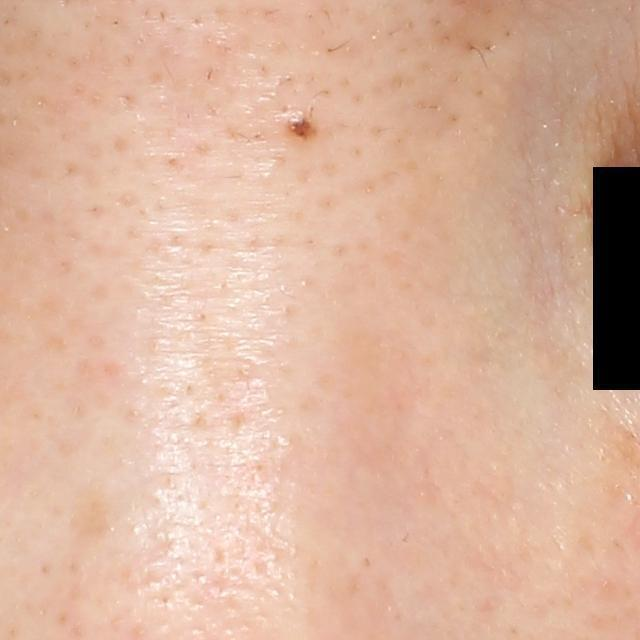nevus: (286, 110, 323, 143)
